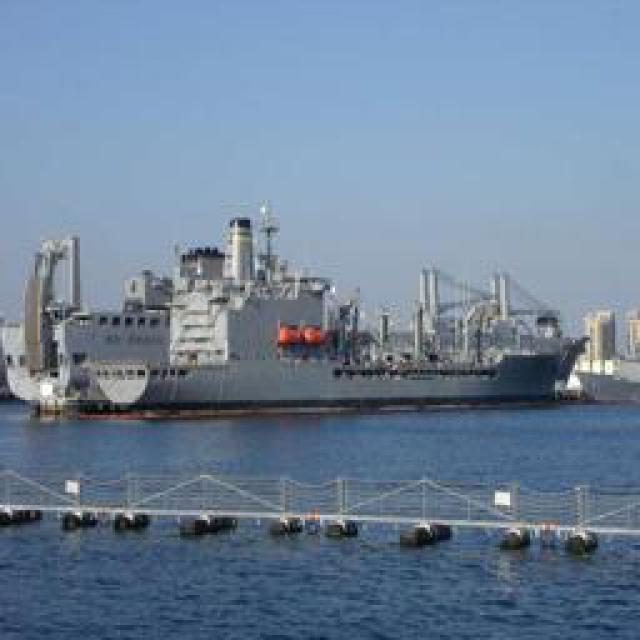Ship: (16, 214, 591, 414)
